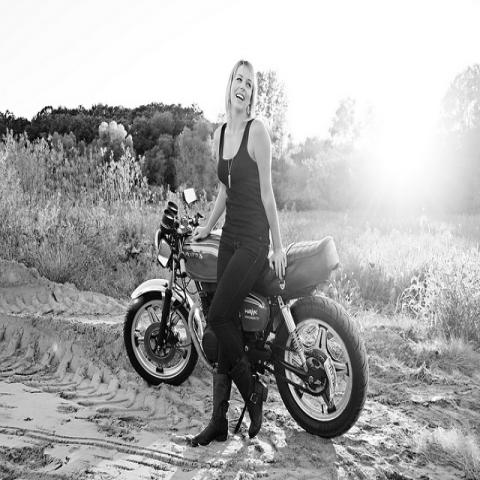motorcycle: (125, 183, 367, 431)
